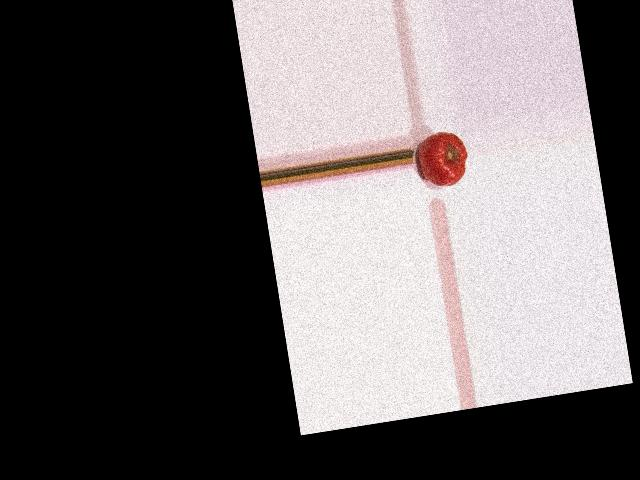tomato: (415, 129, 471, 189)
